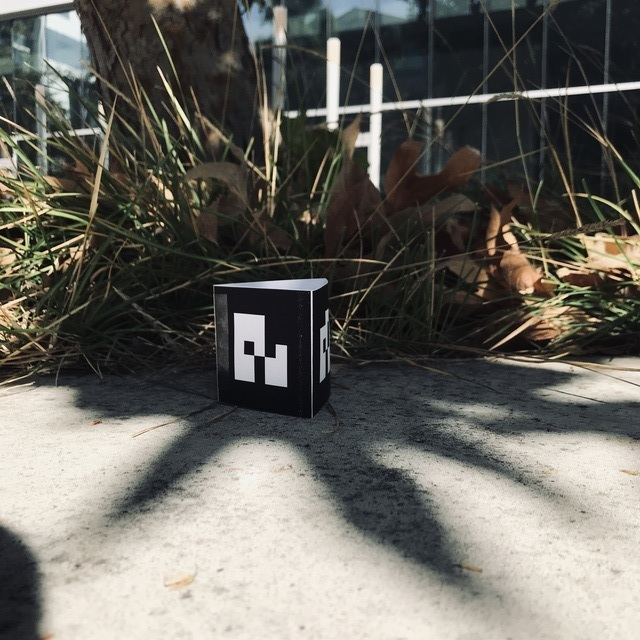ARTag: (213, 277, 331, 420)
